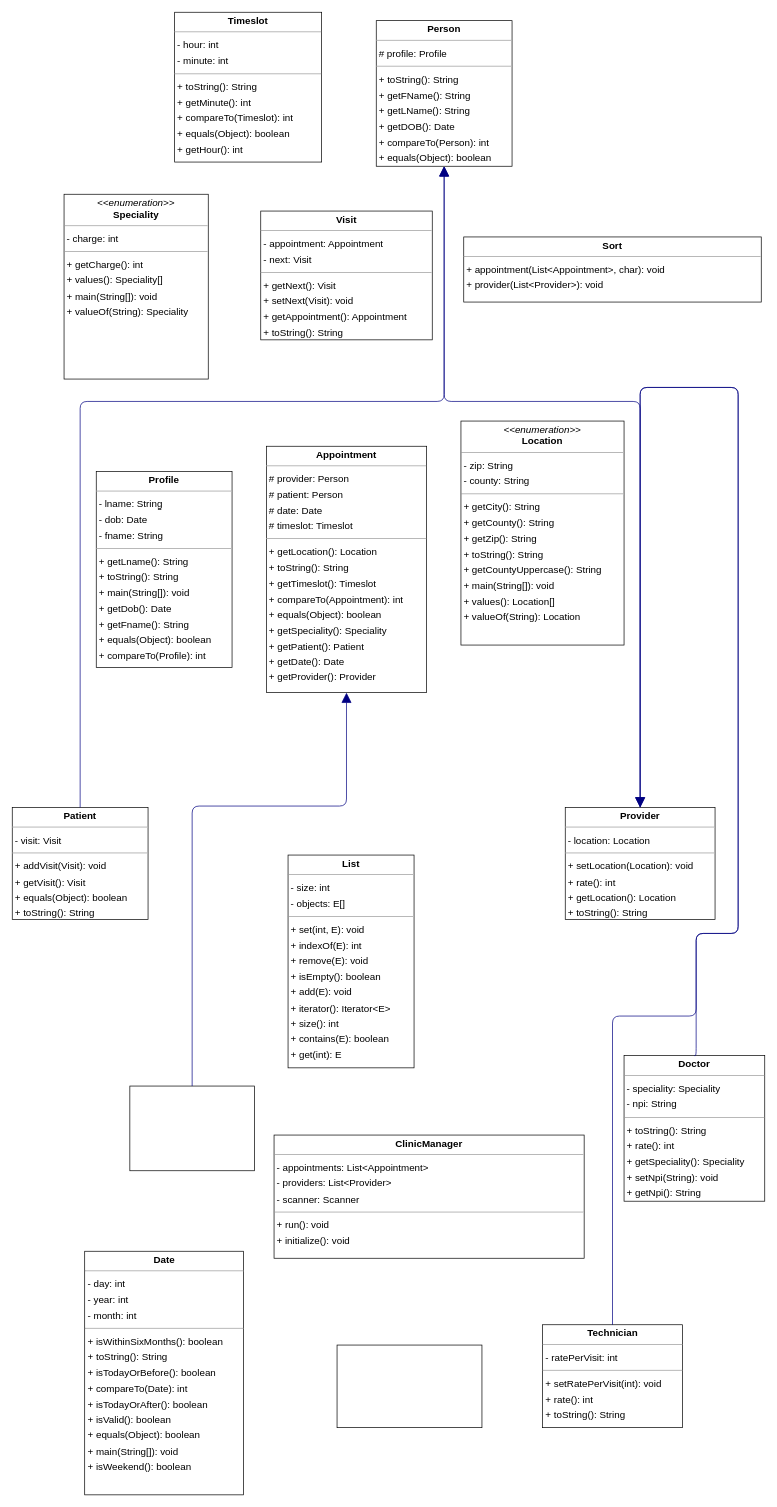
Some shapes in this 777 by 1507 pixel diagram are drawn without their labels. Here are the shapes that lost their labels. From the top down, the centre of each, then its label:
At (191,1128): "Imaging - room: Radiology + getRoom(): Radiology + toString(): String".
At (409,1386): "<<enumeration>> Radiology + valueOf(String): Radiology + values(): Radiology[]".
